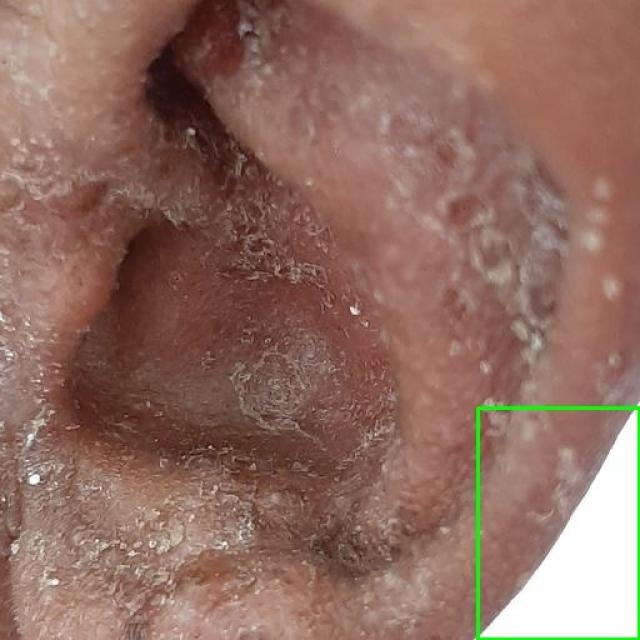Eczema: (478, 408, 639, 639)
